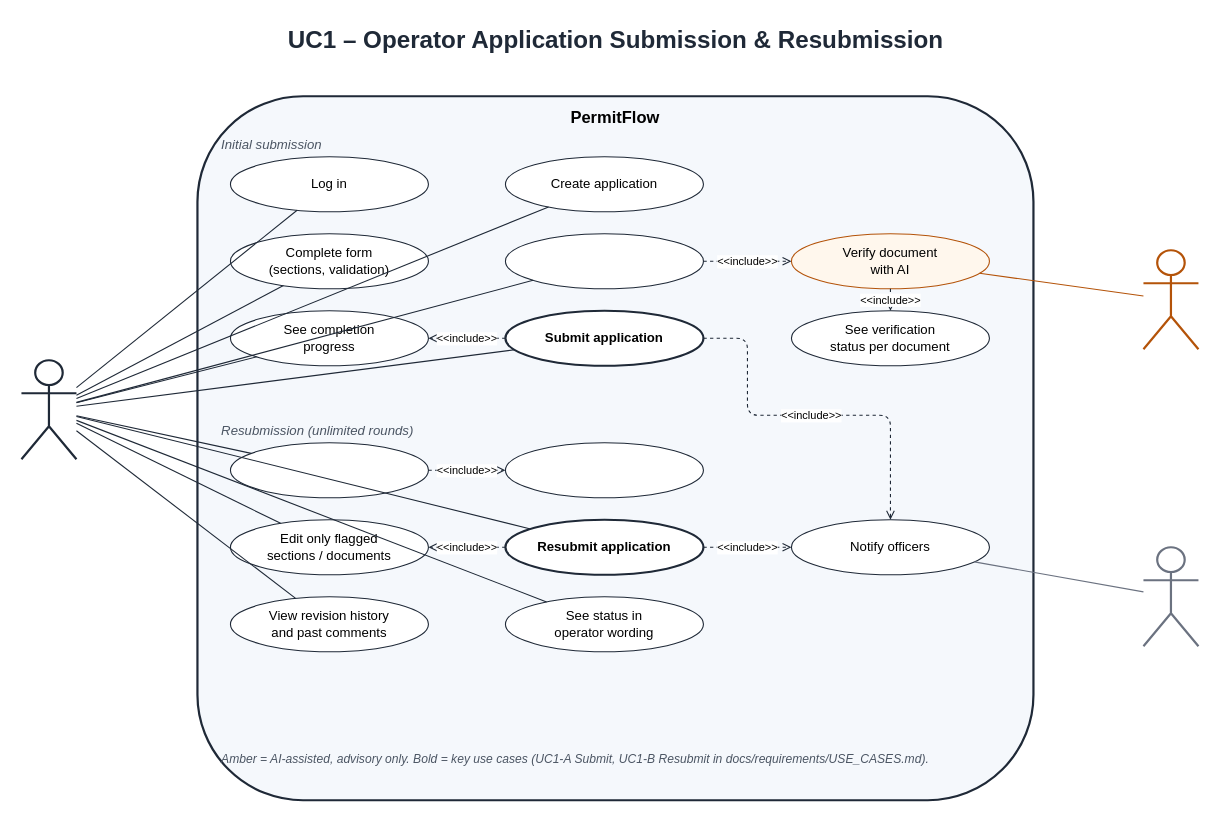
Some shapes in this 1228 by 820 pixel diagram are drawn without their labels. Each missing label, with the box of its shape:
AI Provider (OpenAI): (1142, 249, 1199, 350)
Jump to flagged section / document: (504, 442, 703, 498)
Officer (notified): (1142, 546, 1199, 647)
Operator: (20, 359, 77, 460)
Upload documents (drag-and-drop): (504, 233, 703, 289)
View officer feedback (top of application): (229, 442, 428, 498)
